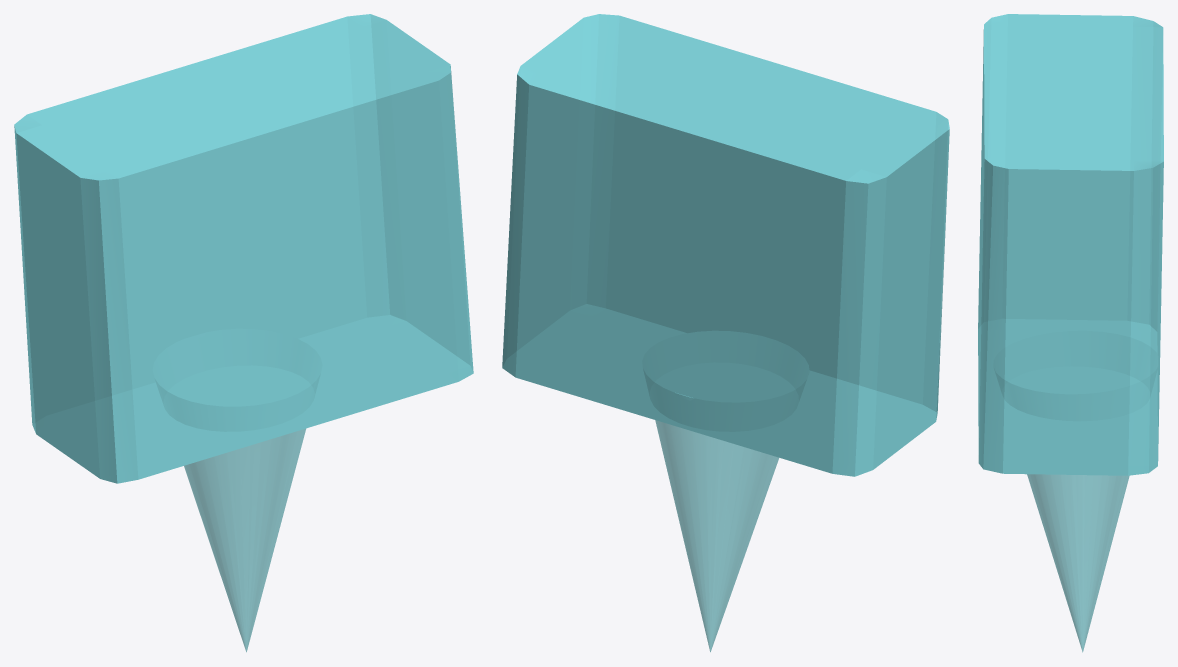
Rendered from morse code hologram puzzle full hologram.fbx.
3 renders of one model, left to right at view 1: azimuth 30°, elevation 25°; view 2: azimuth 150°, elevation 25°; view 3: azimuth 270°, elevation 25°, orthographic. The views are drawn at different scales.
Visible parts, largest first — view 1: 4a79143c-341e-4800-81ed-613c7933fea4; view 2: 4a79143c-341e-4800-81ed-613c7933fea4; view 3: 4a79143c-341e-4800-81ed-613c7933fea4.
Part boxes in pixels (x1=…): 4a79143c-341e-4800-81ed-613c7933fea4: x1=14, y1=14, x2=473, y2=652; 4a79143c-341e-4800-81ed-613c7933fea4: x1=502, y1=14, x2=949, y2=652; 4a79143c-341e-4800-81ed-613c7933fea4: x1=978, y1=14, x2=1163, y2=652.
Bounding box in the file's own units: 69144 × 98105 × 29339.
